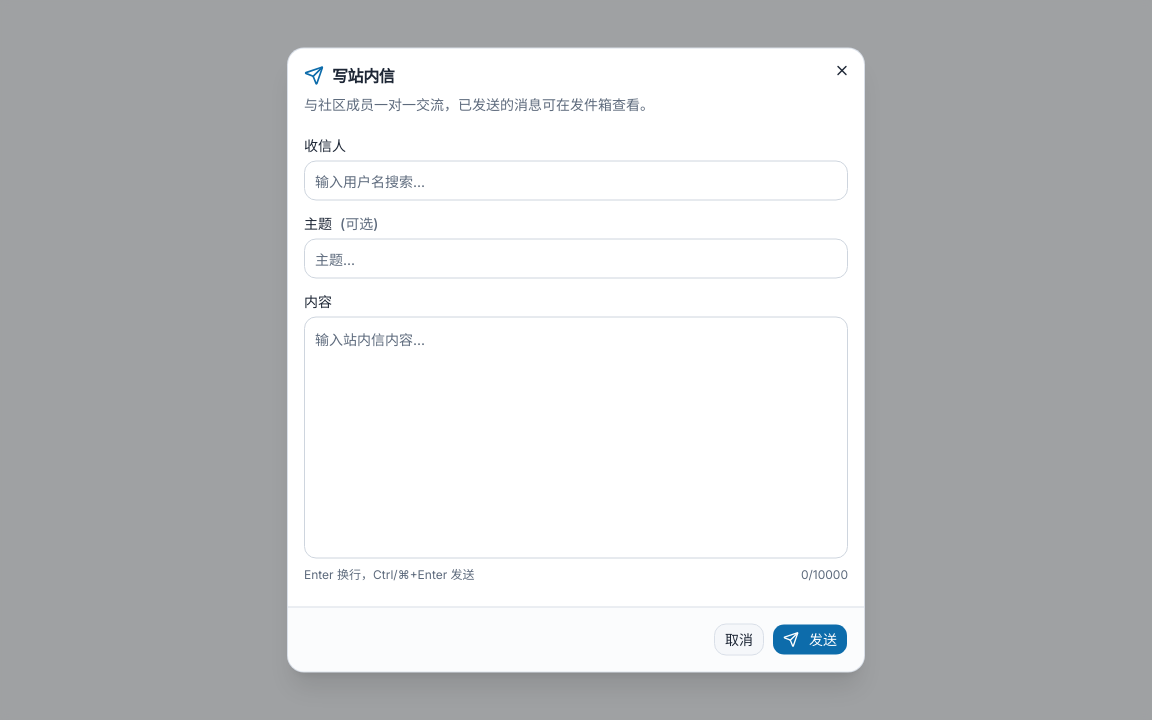
Test case: ignores old recipient results after a newer search or after clearing input
The image size is (1152, 720).
Type "Alice" into the dropdown labelled "收信人" at x=576, y=180, box [304,160,848,200]
Wait 300 ms
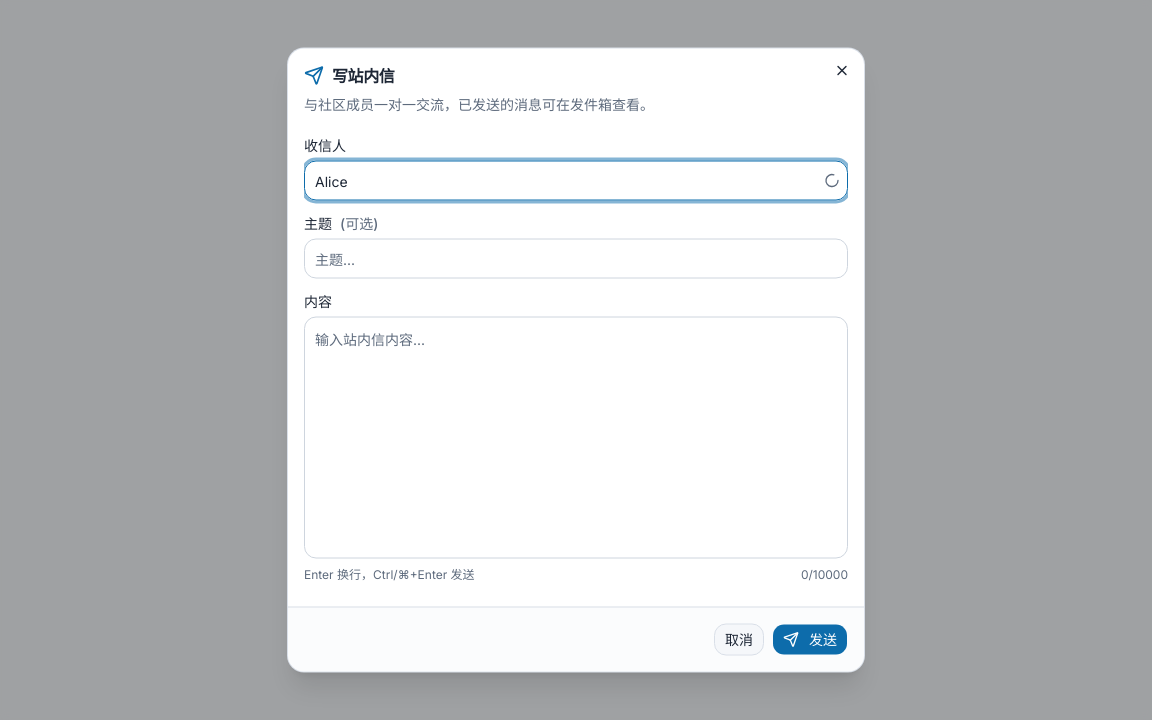
Replace the text in the dropdown labelled "收信人" with "Bob" at x=576, y=180, box [304,160,848,200]
Wait 300 ms
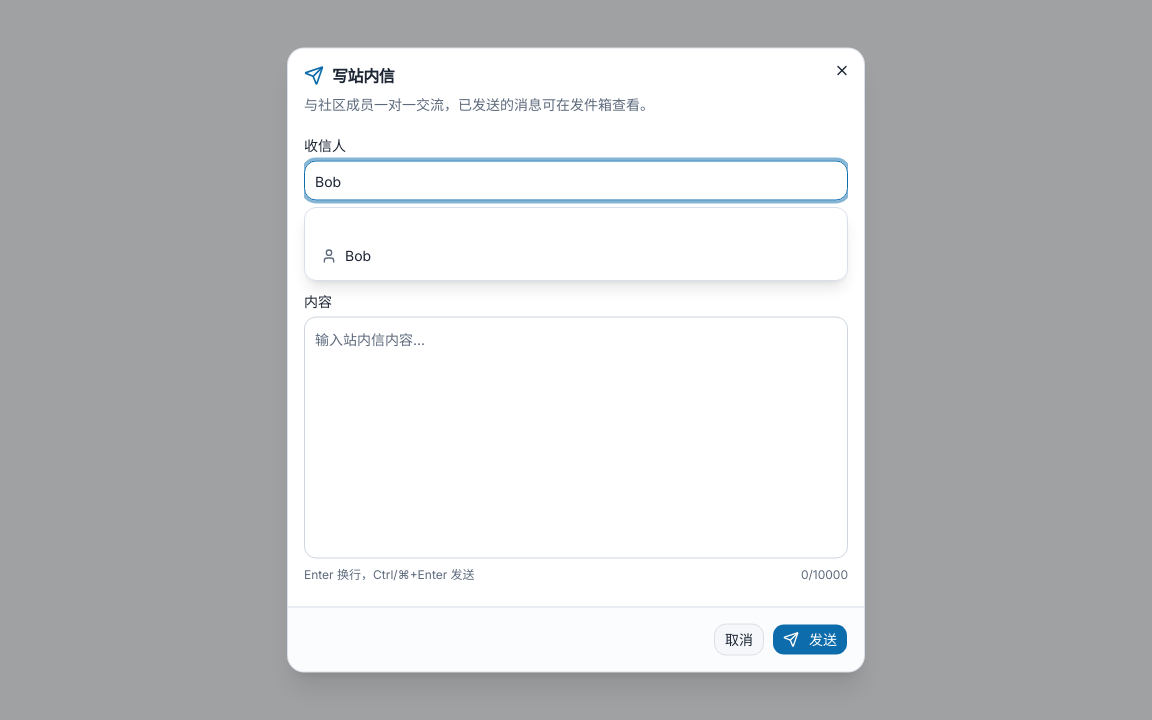
Expected: the option "Alice" is not shown
Result: the option "Bob" is shown
Click the option "Bob" at x=346, y=256, box [321,247,371,264]
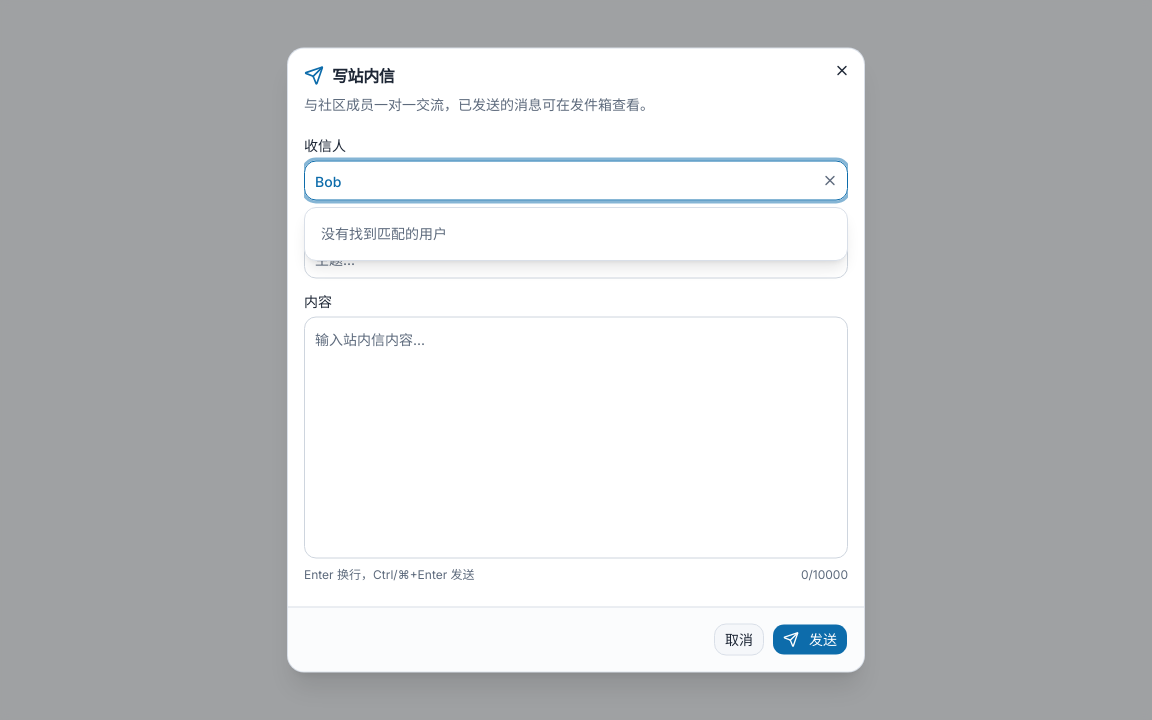
Click the button named "清除收信人" at x=830, y=180, box [816,166,844,194]
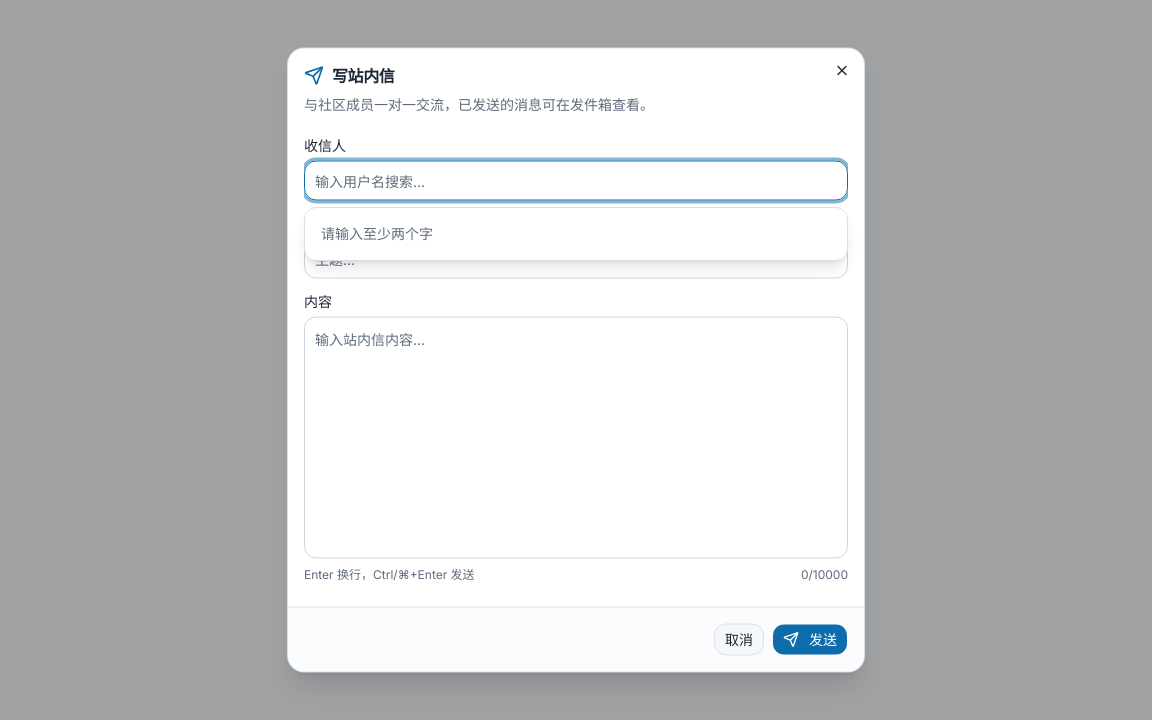
Expected: the option "Bob" is not shown
Result: the dropdown labelled "收信人" is empty at [304,160,848,200]
